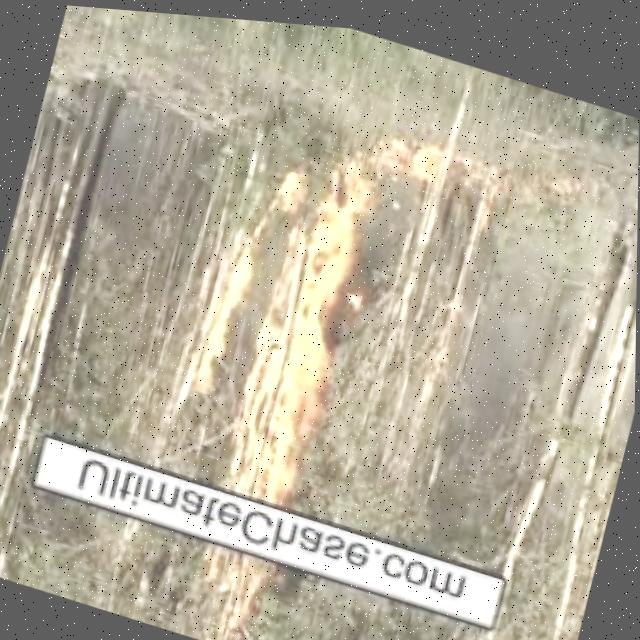Fire: (151, 122, 393, 519), (189, 531, 281, 623), (353, 118, 457, 191)
